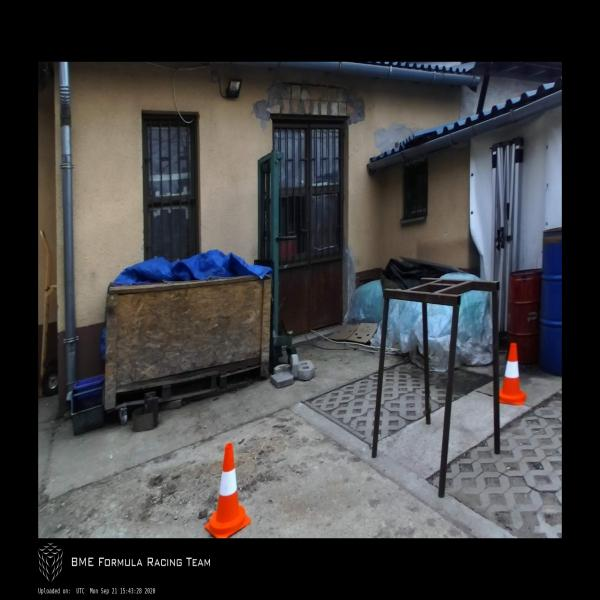orange_cone: (204, 442, 251, 538), (498, 343, 526, 405)
